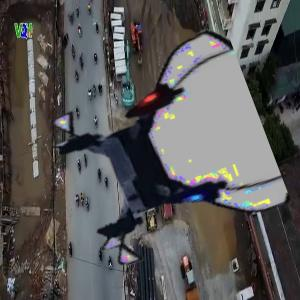drone: (58, 52, 268, 262)
